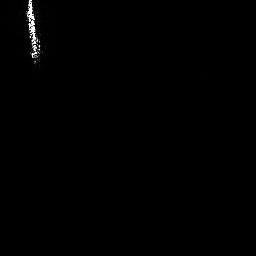ship: (25, 1, 40, 65)
